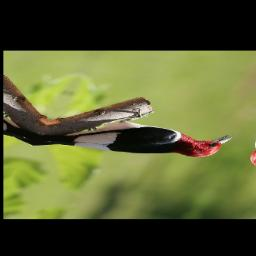Woodpecker: (32, 104, 239, 176)
